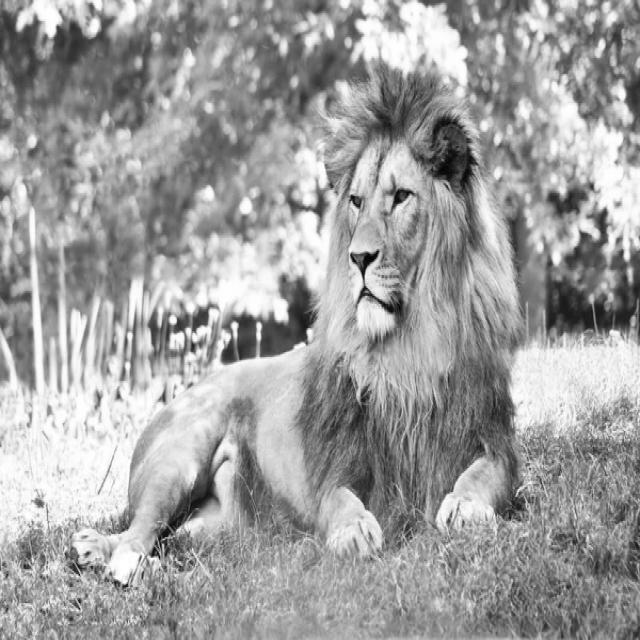Animal: (70, 82, 520, 586)
